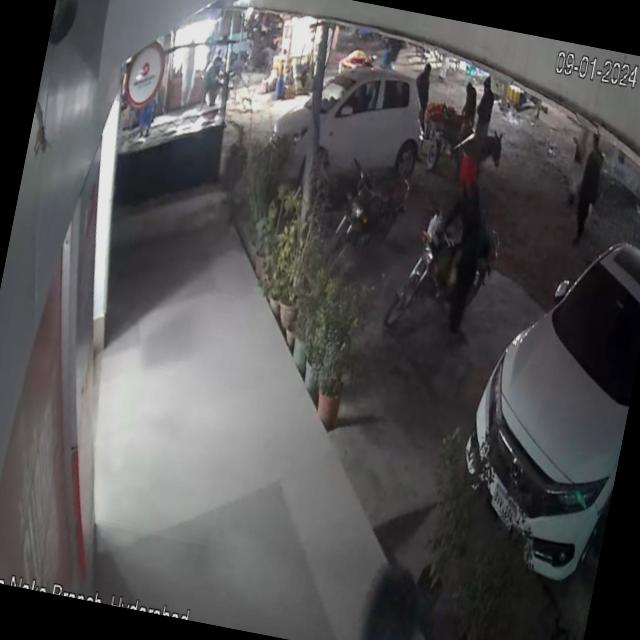Car: (440, 173, 640, 601), (244, 32, 440, 192)
Motorcycle: (380, 200, 520, 342), (328, 146, 417, 272)
